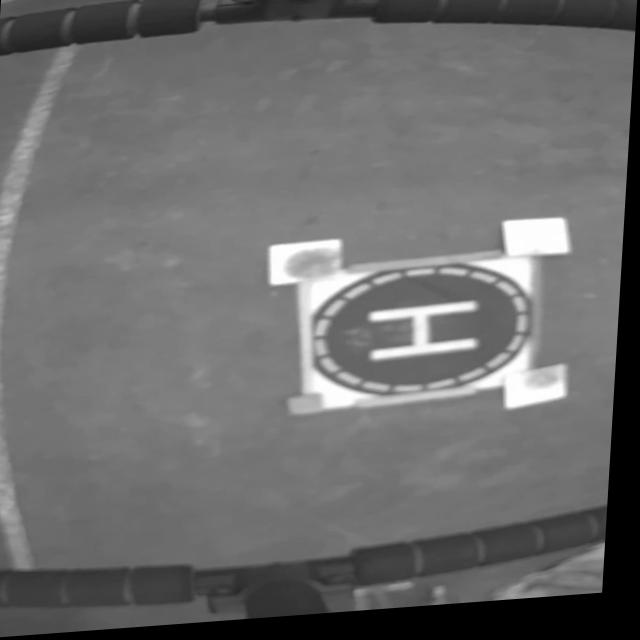Helipad: (372, 308, 484, 369)
